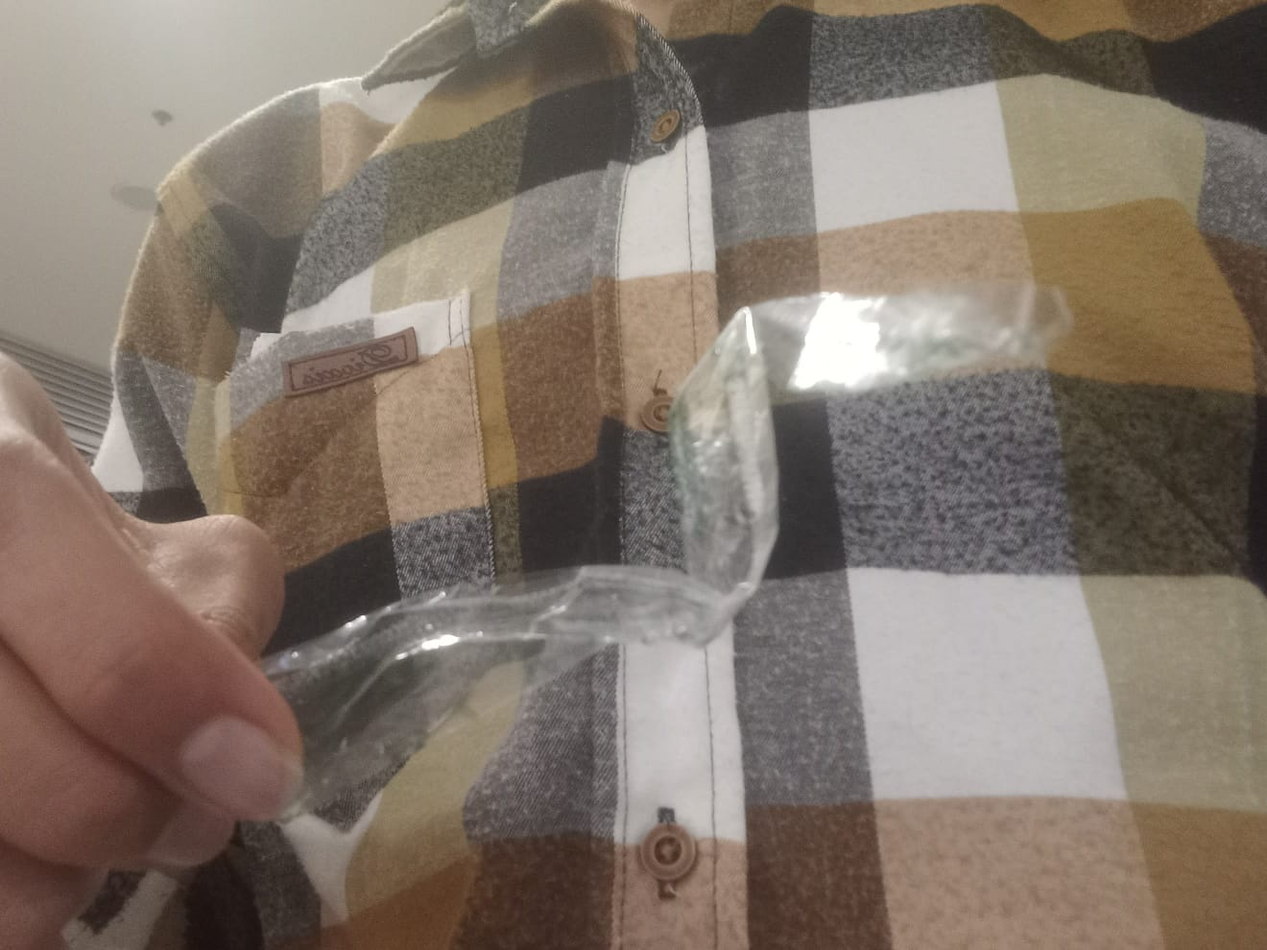Ordinario: (231, 286, 1070, 819)
